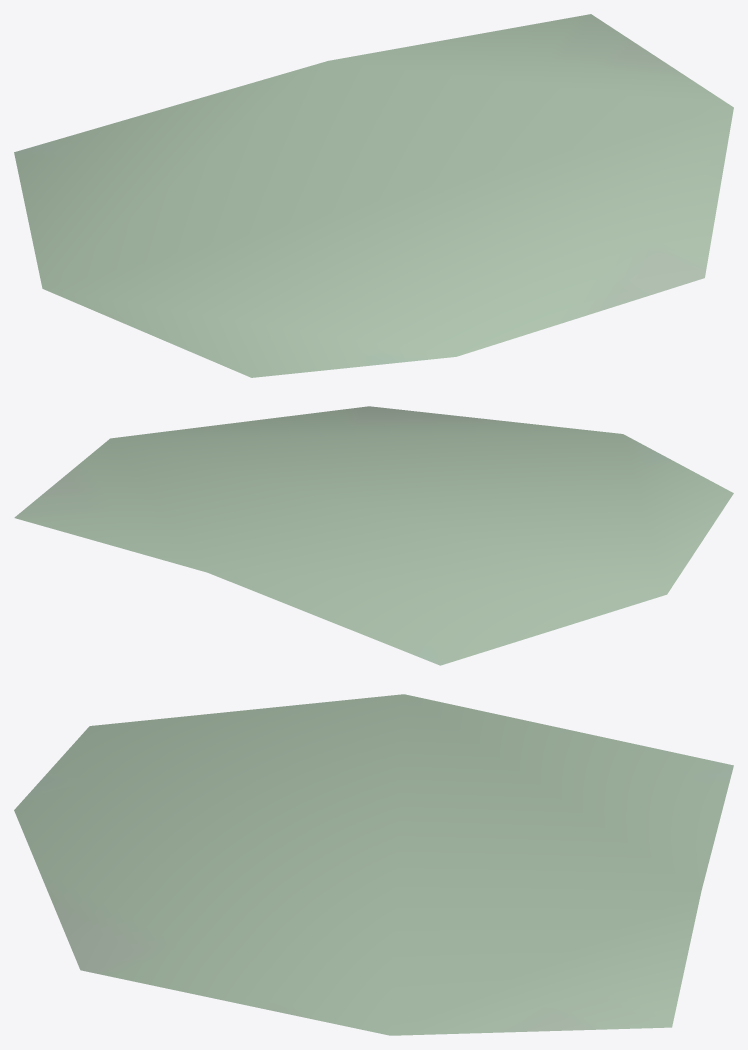
File: TROLLHOLE02_HOLECAP216.fbx
The picture shows the model from 3 angles, top to bottom: view 1: azimuth 30°, elevation 25°; view 2: azimuth 150°, elevation 25°; view 3: azimuth 270°, elevation 25°; orthographic projection. The views are drawn at different scales.
Visible parts, largest first — view 1: TROLLHOLE02_HOLECAP216; view 2: TROLLHOLE02_HOLECAP216; view 3: TROLLHOLE02_HOLECAP216.
Part boxes in pixels (<box>): TROLLHOLE02_HOLECAP216: <box>14,14,733,377</box>; TROLLHOLE02_HOLECAP216: <box>14,406,733,665</box>; TROLLHOLE02_HOLECAP216: <box>14,694,733,1035</box>.
Size of the model in its own units: 17052 by 700 by 14341.
Materials: 1 (1 with a texture image).
